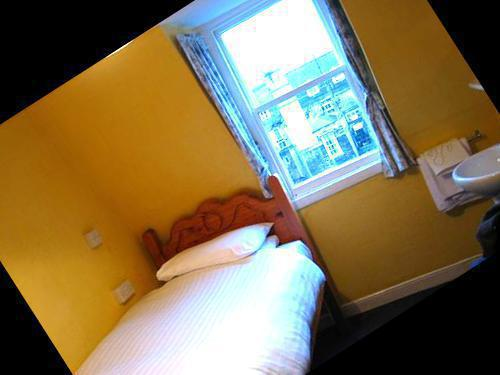Lavamanos: (437, 119, 500, 219)
